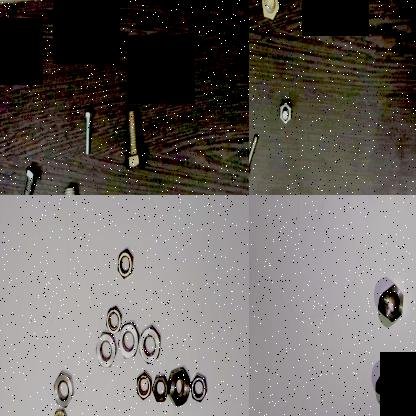Bolts: (122, 106, 146, 173), (17, 162, 41, 195), (82, 104, 96, 156), (277, 97, 297, 127), (249, 133, 261, 179), (260, 0, 280, 22), (58, 179, 82, 195)
NUTS: (380, 278, 406, 324), (167, 366, 195, 408), (378, 360, 402, 404), (138, 324, 164, 364), (93, 329, 118, 370), (53, 367, 74, 411), (149, 368, 173, 406), (116, 322, 140, 360), (114, 246, 136, 282), (189, 371, 210, 405), (101, 307, 123, 336), (134, 368, 154, 398), (48, 408, 70, 416)
